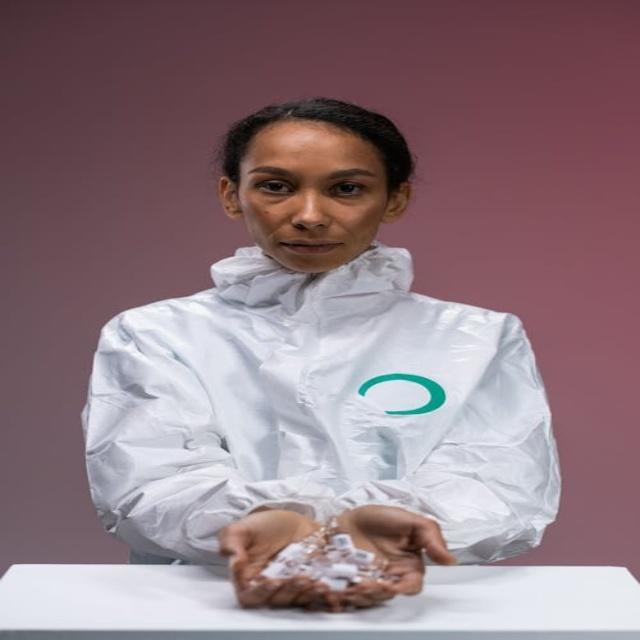Sin_gafas: (244, 162, 378, 203)
Sin_guantes: (219, 503, 448, 614)
Sin_mascara: (271, 233, 347, 267)
